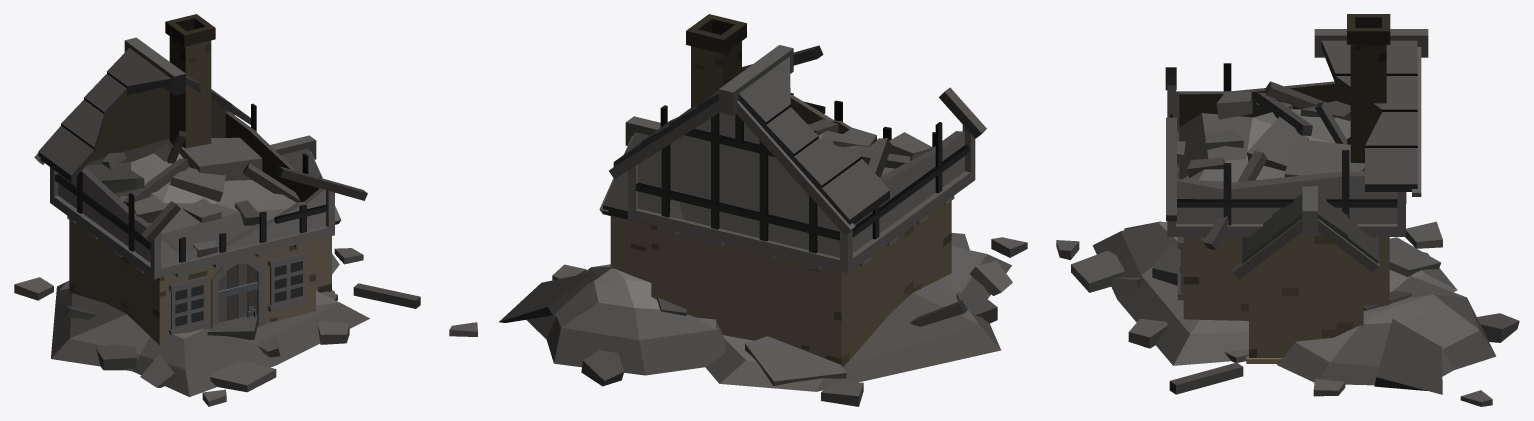
The model's file is MediumLess_SF_Bld_House_Burntdown_01.fbx.
The picture shows the model from 3 angles, left to right: view 1: azimuth 30°, elevation 25°; view 2: azimuth 150°, elevation 25°; view 3: azimuth 270°, elevation 25°; orthographic projection. The views are drawn at different scales.
Parts seen in each view (by area): view 1: SF_Bld_House_Burntdown_01; view 2: SF_Bld_House_Burntdown_01; view 3: SF_Bld_House_Burntdown_01.
Part boxes in pixels (x1,y1,x2,y2): SF_Bld_House_Burntdown_01: [14, 14, 420, 406]; SF_Bld_House_Burntdown_01: [449, 14, 1027, 406]; SF_Bld_House_Burntdown_01: [1056, 14, 1519, 406].
Size of the model in its own units: 1476 by 1011 by 1462.
